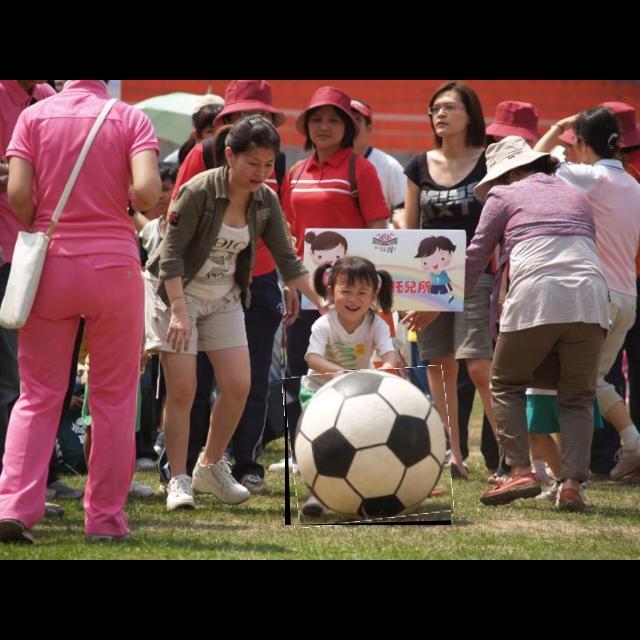Football: (285, 369, 451, 525)
